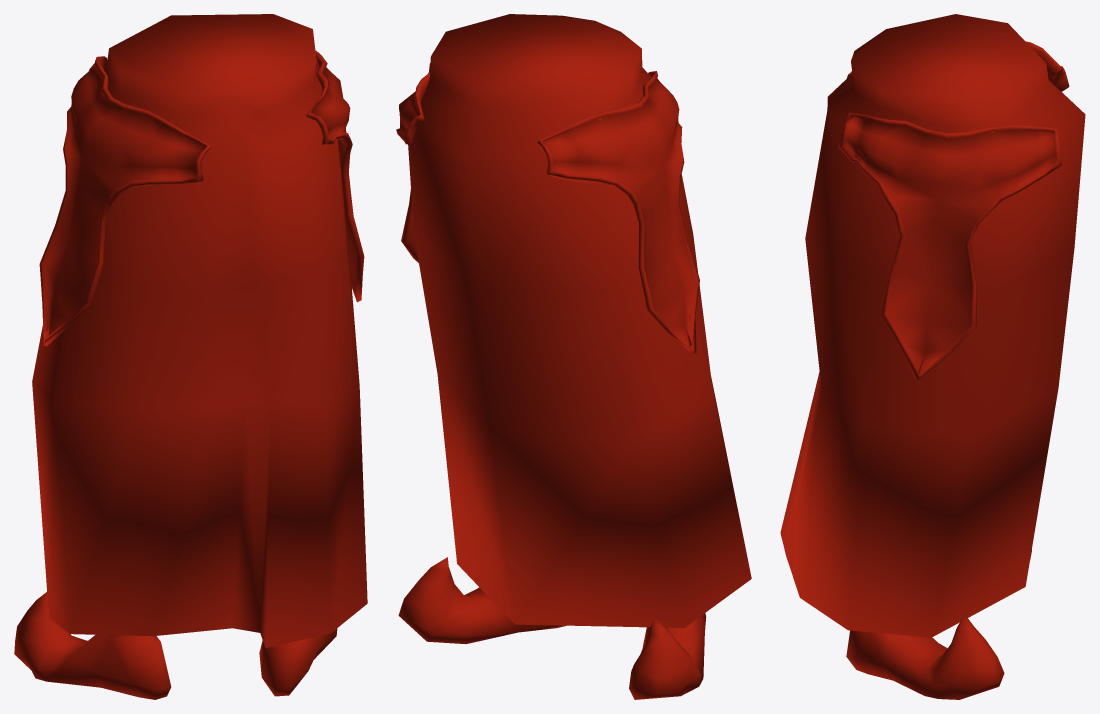
File: bot_000018.obj
The picture shows the model from 3 angles, left to right: view 1: azimuth 30°, elevation 25°; view 2: azimuth 150°, elevation 25°; view 3: azimuth 270°, elevation 25°; orthographic projection. The views are drawn at different scales.
Visible parts, largest first — view 1: LowPoly_Warlock.004_Plane.004; view 2: LowPoly_Warlock.004_Plane.004; view 3: LowPoly_Warlock.004_Plane.004.
Part boxes in pixels (<box>): LowPoly_Warlock.004_Plane.004: <box>14,14,367,699</box>; LowPoly_Warlock.004_Plane.004: <box>396,14,751,699</box>; LowPoly_Warlock.004_Plane.004: <box>780,14,1085,699</box>.
Bounding box in the file's own units: 0.5883 × 1.12 × 0.5163.
